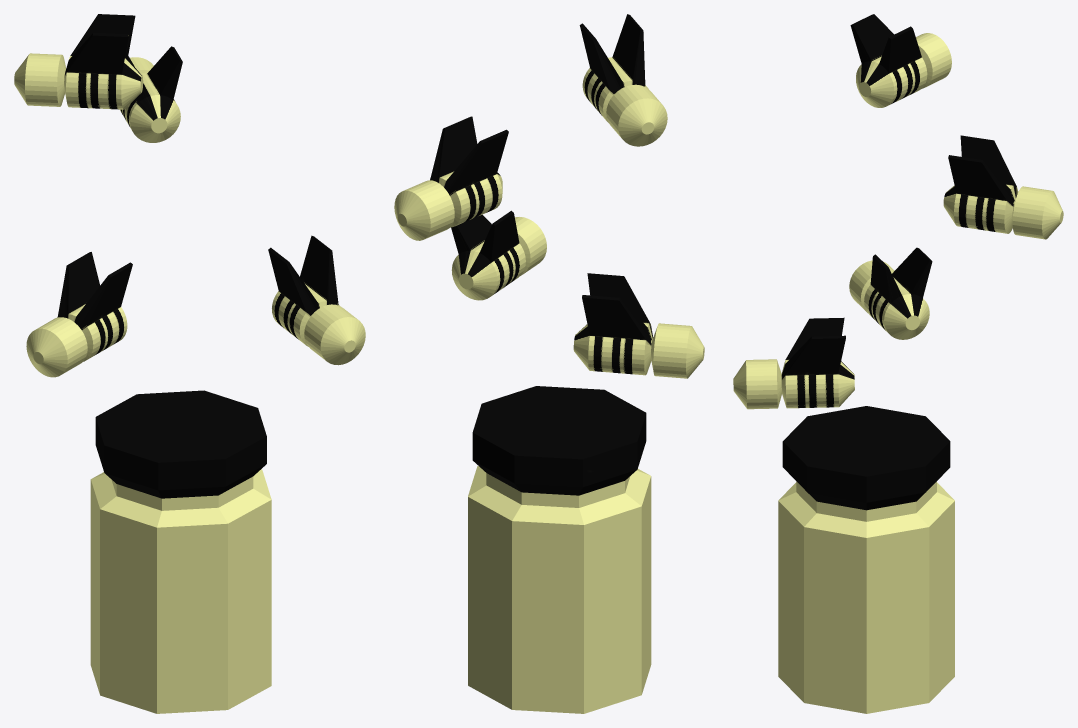
File: honeypot.fbx
3 views of the same model, side by side, from view 1: azimuth 30°, elevation 25°; view 2: azimuth 150°, elevation 25°; view 3: azimuth 270°, elevation 25° (orthographic). The views are drawn at different scales.
Parts seen in each view (by area): view 1: honeypot, bee.003, bee.001, bee.004, bee.002; view 2: honeypot, bee.001, bee.002, bee.003, bee.004; view 3: honeypot, bee.002, bee.004, bee.003, bee.001.
Boxes of the visible parts, bbox=[...] form: honeypot: bbox=[90, 390, 271, 713]; bee.003: bbox=[14, 14, 143, 109]; bee.001: bbox=[26, 252, 132, 377]; bee.004: bbox=[268, 235, 365, 365]; bee.002: bbox=[120, 46, 182, 142]; honeypot: bbox=[468, 386, 651, 713]; bee.001: bbox=[573, 273, 704, 378]; bee.002: bbox=[394, 116, 508, 240]; bee.003: bbox=[579, 14, 667, 146]; bee.004: bbox=[451, 210, 546, 300]; honeypot: bbox=[778, 406, 954, 713]; bee.002: bbox=[943, 135, 1063, 239]; bee.004: bbox=[733, 317, 854, 409]; bee.003: bbox=[850, 14, 951, 107]; bee.001: bbox=[849, 247, 932, 339].
Bounding box in the file's own units: 689 × 1633 × 782.
